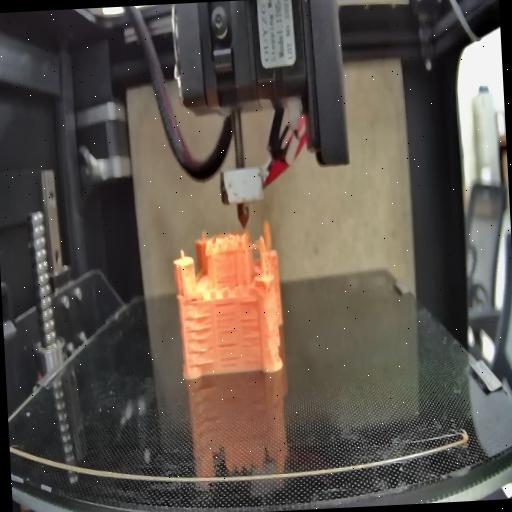cracks: (184, 314, 216, 369), (240, 314, 262, 364), (214, 300, 236, 334), (216, 338, 239, 369), (236, 294, 262, 308), (188, 294, 204, 306)
